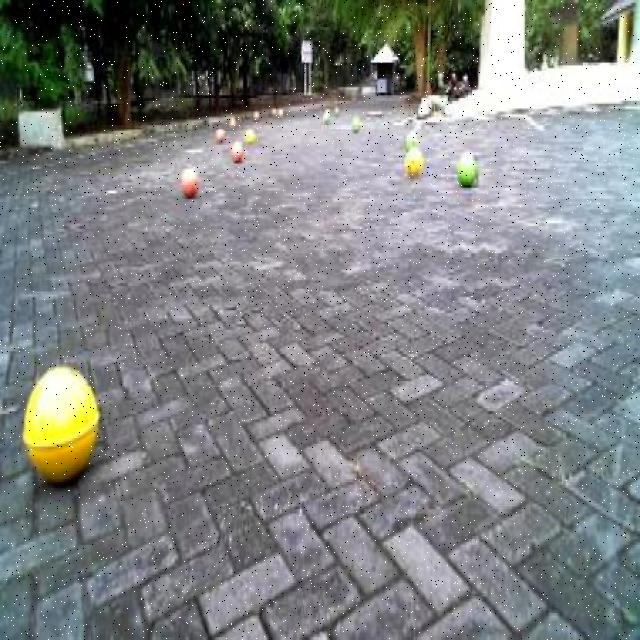buoy: (15, 352, 104, 496), (454, 145, 482, 191), (178, 160, 200, 203), (403, 142, 425, 182), (231, 140, 243, 164)
